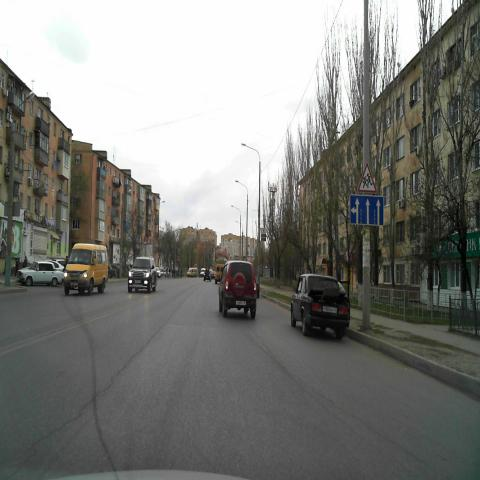1_23: (356, 161, 378, 192)
5_15_1: (348, 193, 384, 227)
